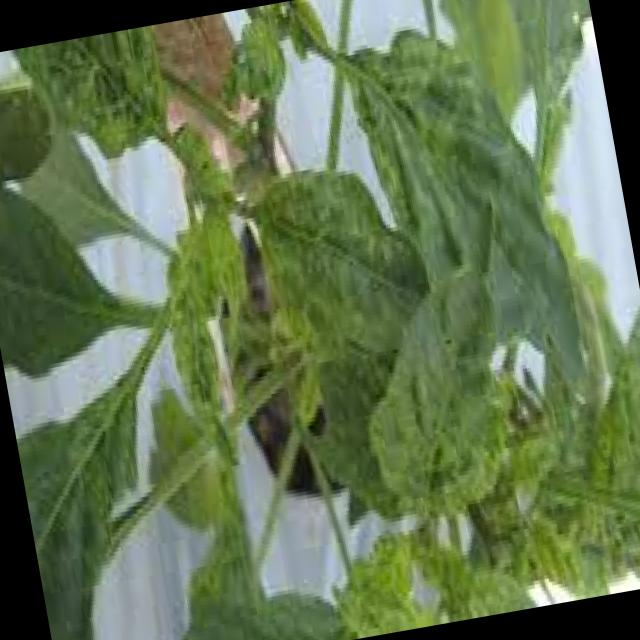Chilli_Leaf_Curl: (0, 0, 640, 640), (337, 4, 592, 416), (238, 144, 468, 534), (338, 256, 528, 528), (146, 198, 268, 417), (11, 24, 177, 172)
